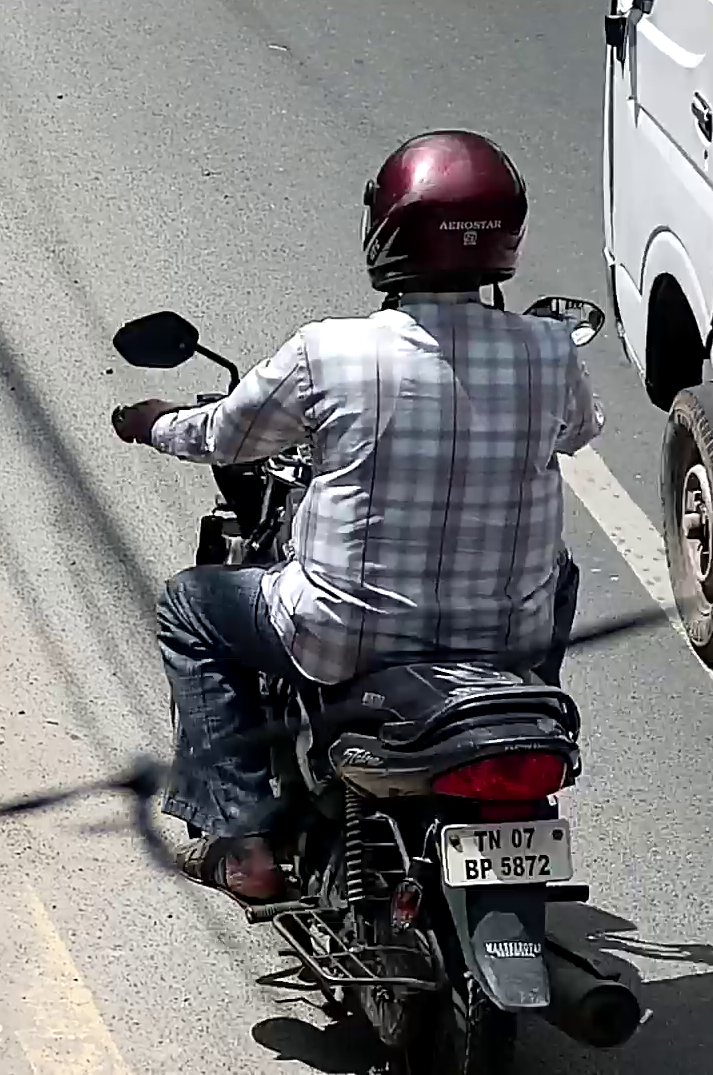0: (511, 828, 522, 848)
2: (537, 854, 551, 877)
5: (500, 856, 512, 876)
7: (522, 827, 536, 849), (525, 854, 537, 877)
8: (513, 855, 525, 877)
B: (464, 859, 479, 880)
N: (488, 829, 501, 850)
P: (480, 858, 492, 879)
P16: (440, 817, 574, 891)
T: (473, 830, 487, 852)
